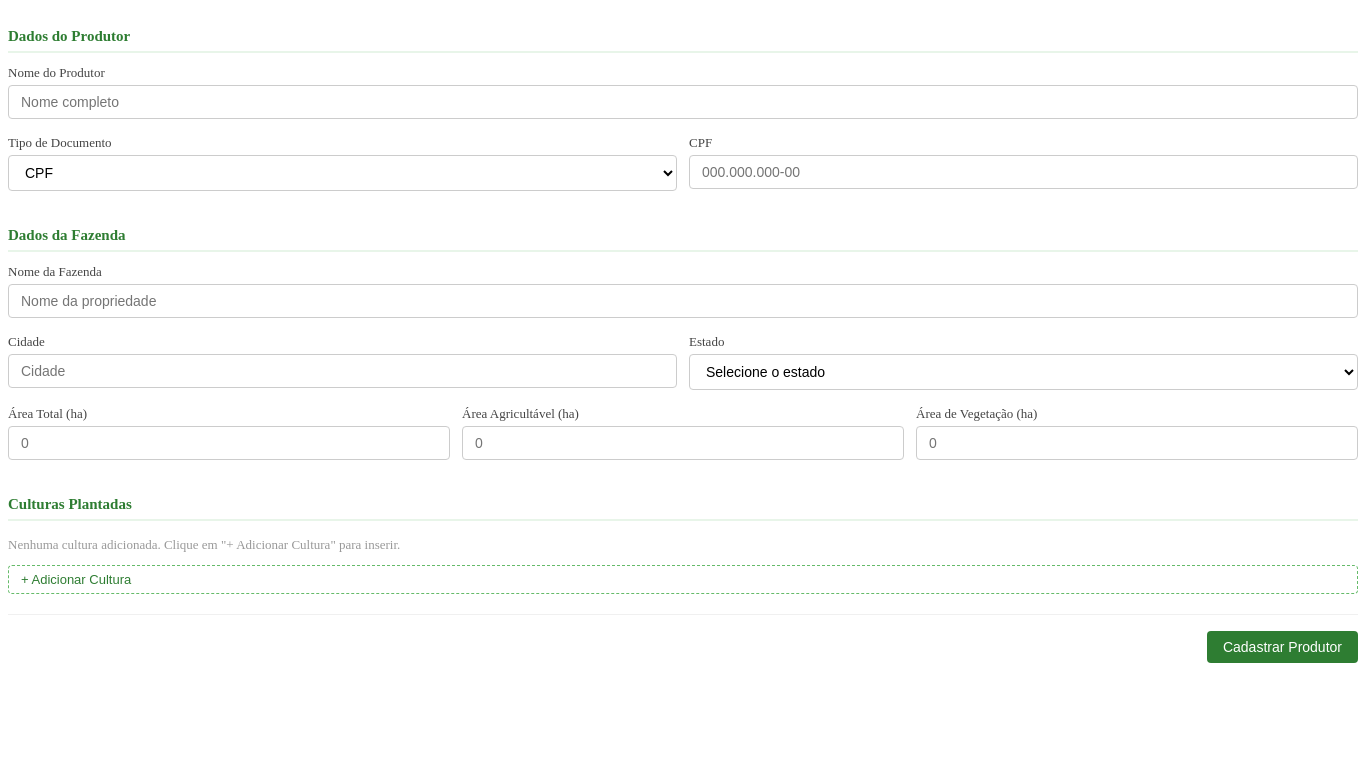
Test: ProducerForm — novo formulário unificado › Validações do produtor › exibe erro quando nome está vazio
Click the button "Cadastrar Produtor" at (1282, 647), box [1207, 631, 1358, 663]
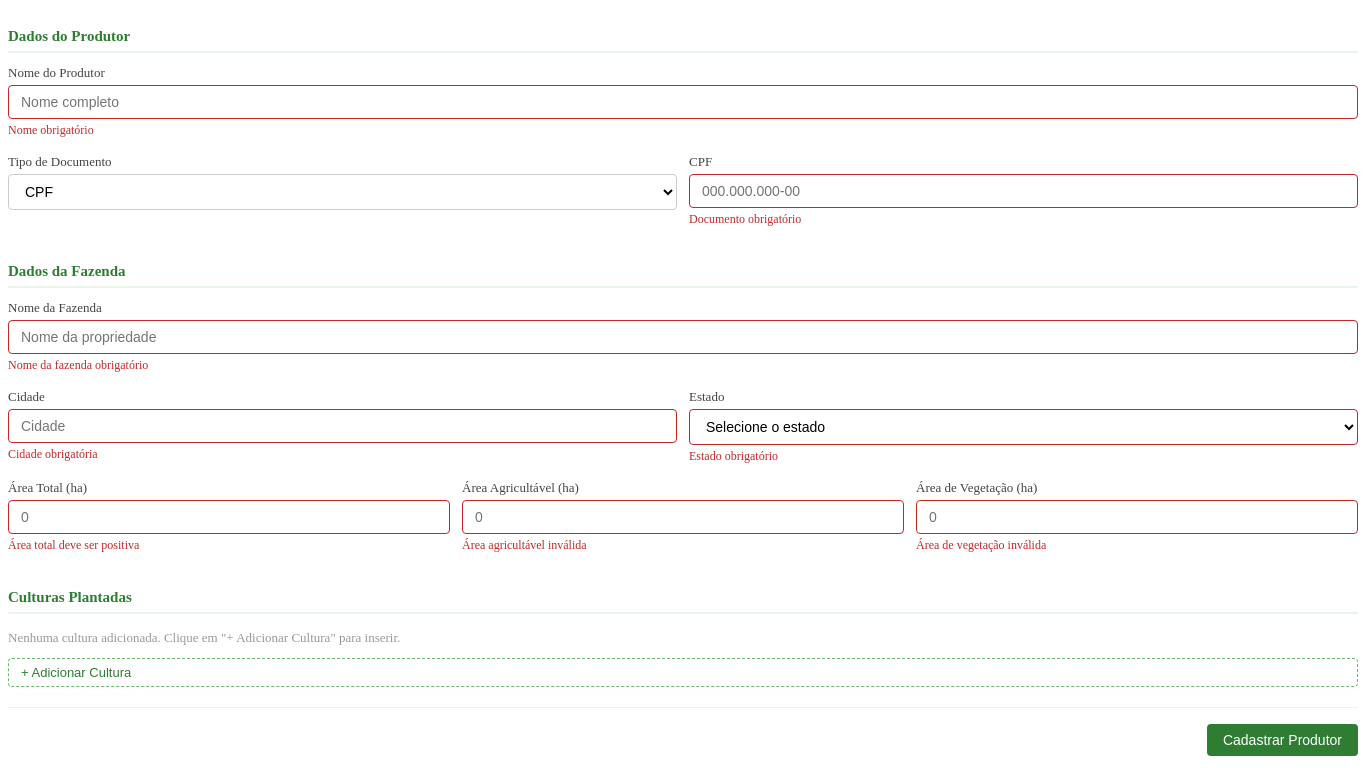
Check: the text "Nome obrigatório" is shown, box [8, 123, 94, 137]
